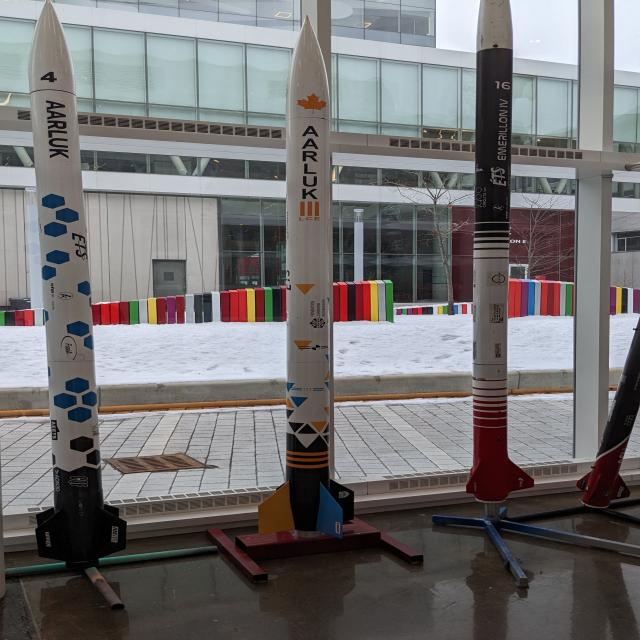Rocket: (28, 0, 127, 569), (257, 15, 355, 539), (466, 0, 534, 504), (576, 316, 640, 508)
